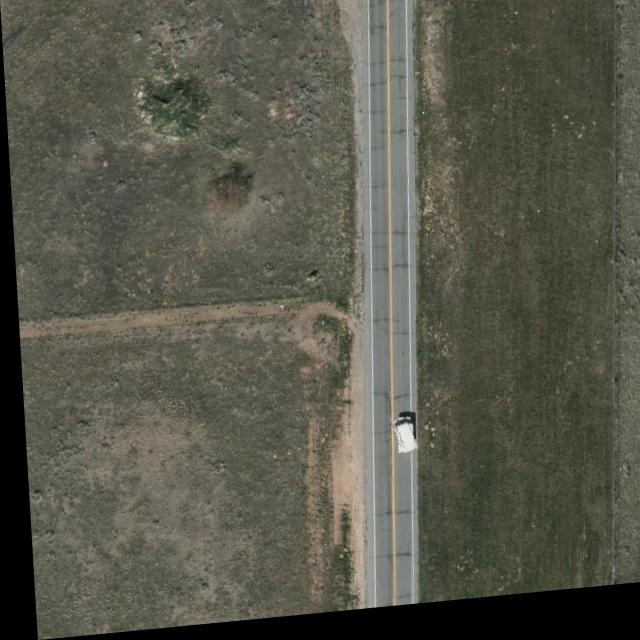vehicle: (388, 424, 411, 463)
